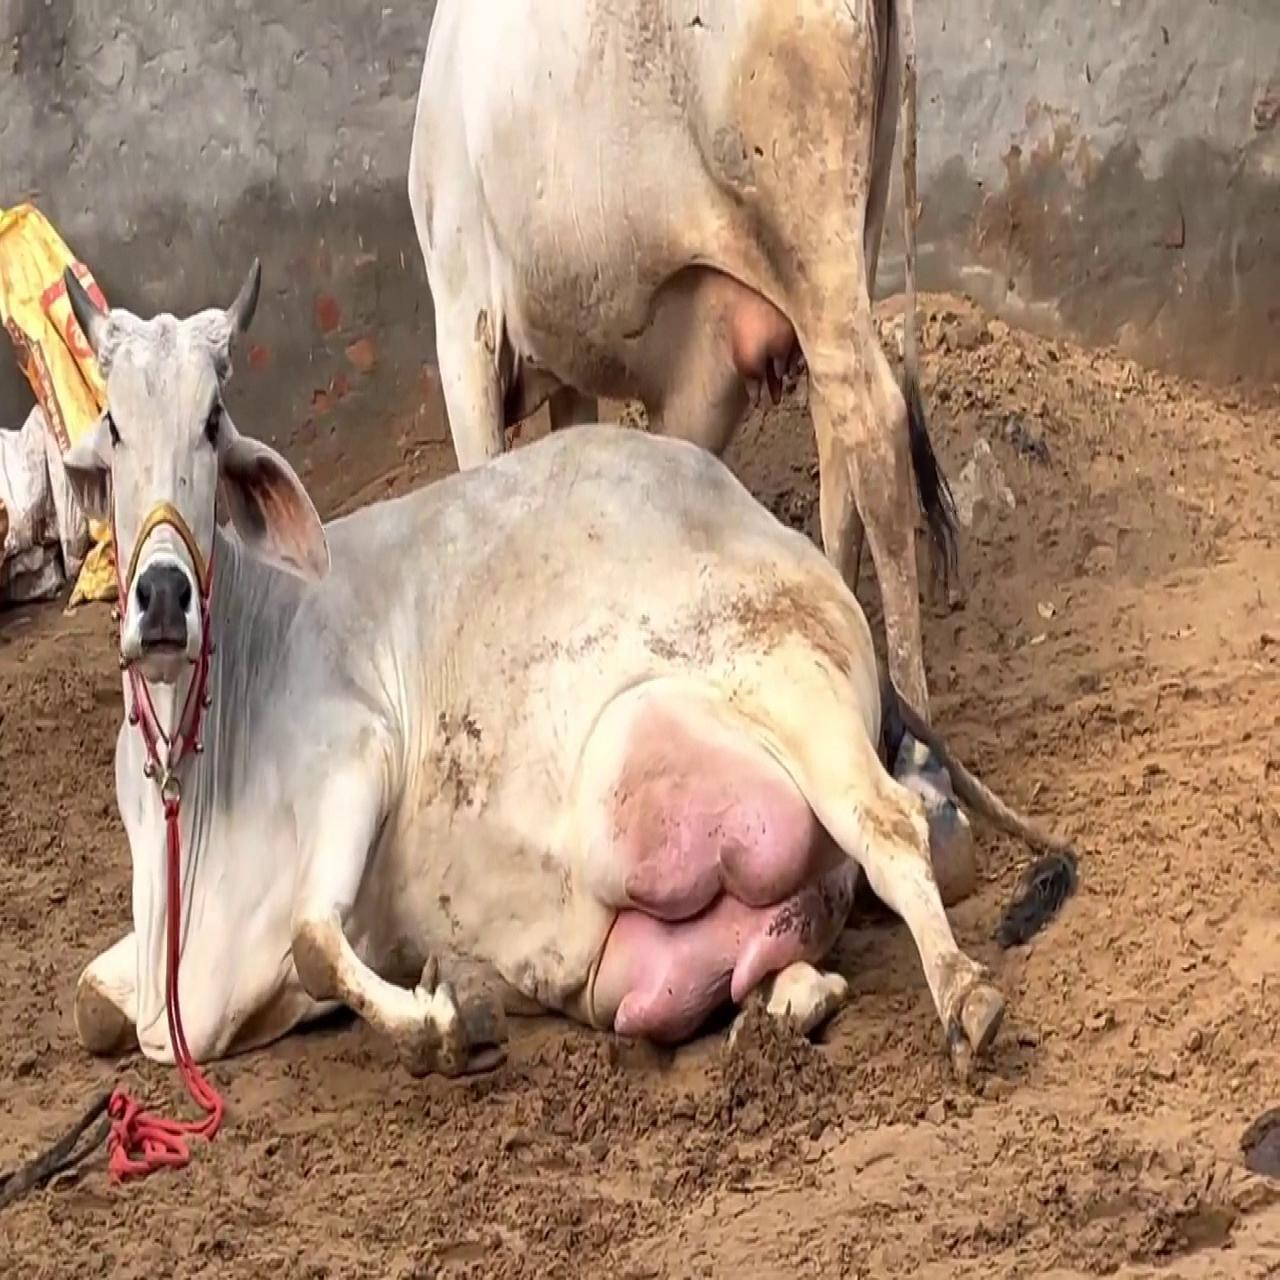Face: (105, 320, 213, 654)
